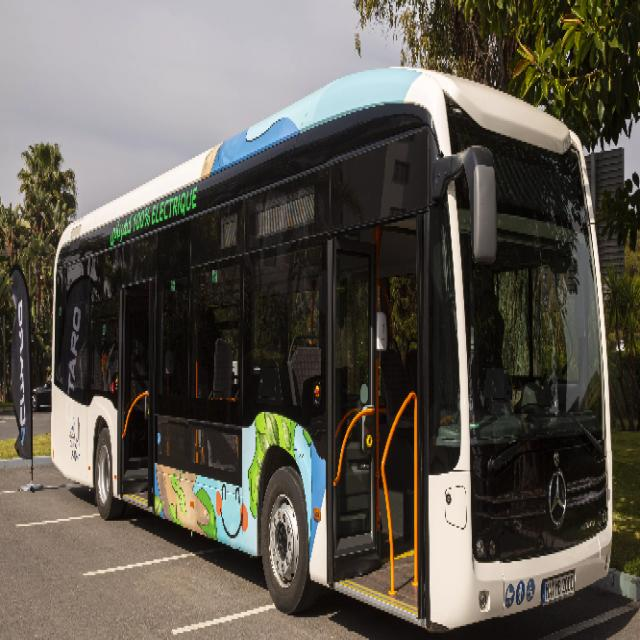Bus: (50, 68, 614, 630)
